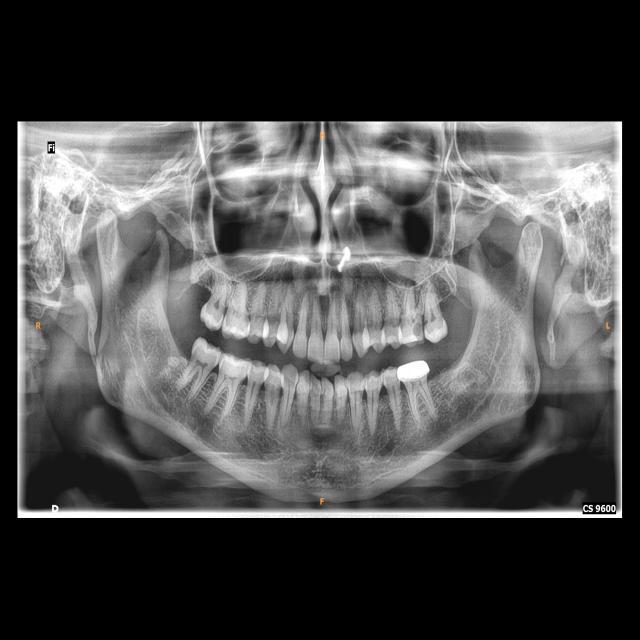dentin-curugu: (408, 321, 425, 342)
kaplama: (398, 357, 428, 384)
